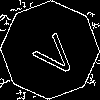V: (25, 25, 81, 81)
